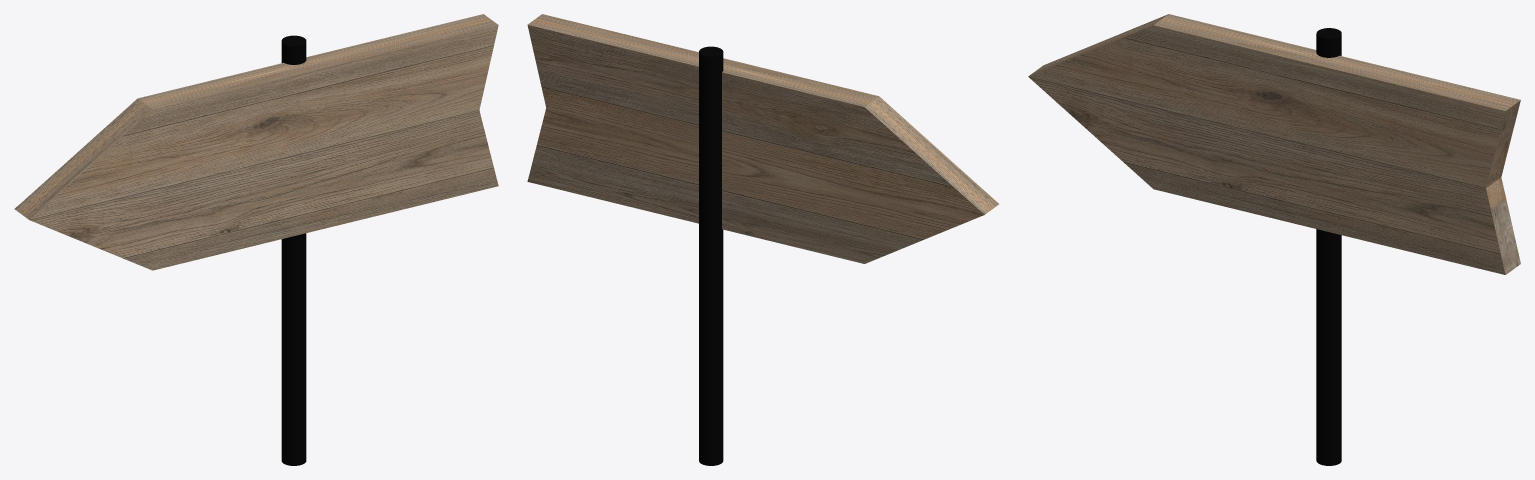
Rendered from Waterstill 1.fbx.
3 views of the same model, side by side, from view 1: azimuth 30°, elevation 25°; view 2: azimuth 150°, elevation 25°; view 3: azimuth 330°, elevation 25° (orthographic). The views are drawn at different scales.
Visible parts, largest first — view 1: Cube, Cylinder; view 2: Cube, Cylinder; view 3: Cube, Cylinder.
Part boxes in pixels (bbox=[...]): Cube: bbox=[14, 14, 498, 270]; Cylinder: bbox=[281, 35, 306, 465]; Cube: bbox=[527, 14, 998, 263]; Cylinder: bbox=[699, 46, 723, 465]; Cube: bbox=[1028, 14, 1520, 274]; Cylinder: bbox=[1316, 28, 1341, 465].
Bounding box in the file's own units: 3589 × 3068 × 290.
Materials: 2 (1 with a texture image).
